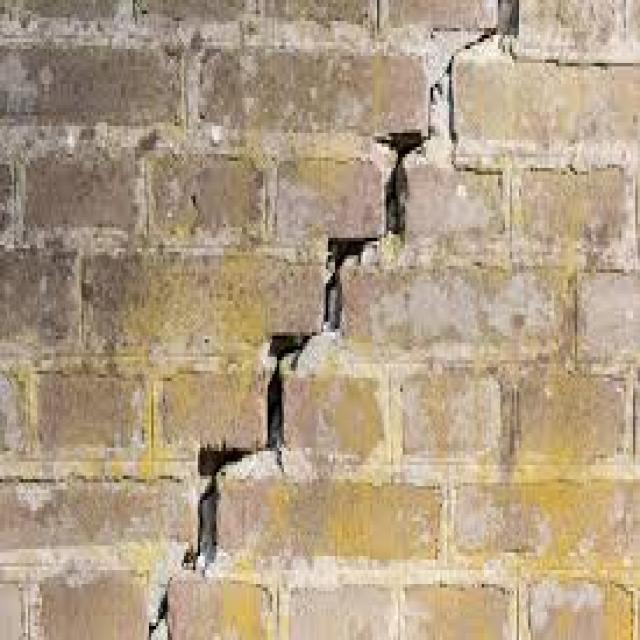Crack: (144, 0, 519, 637)
